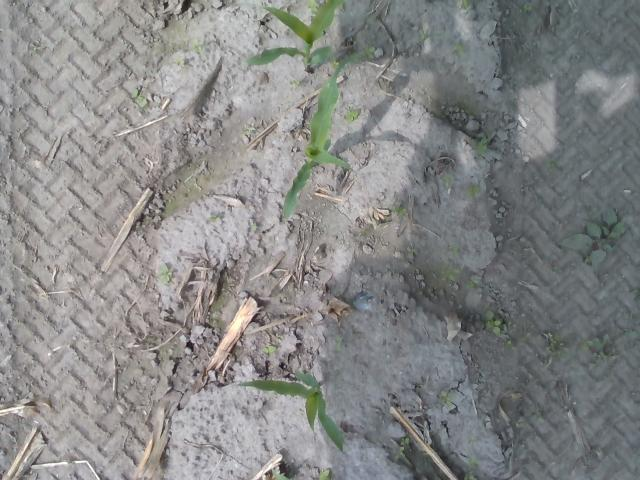Maize: (278, 50, 369, 220), (232, 367, 344, 453), (240, 0, 346, 75)
Weeds: (560, 206, 626, 270), (580, 339, 614, 367), (484, 312, 512, 344), (538, 331, 568, 356), (392, 435, 412, 462), (460, 455, 479, 480), (473, 134, 489, 154), (129, 88, 146, 106), (159, 264, 172, 282), (442, 269, 460, 282), (438, 391, 452, 407), (544, 158, 559, 172), (392, 204, 406, 218), (344, 109, 358, 123), (273, 467, 288, 480), (262, 344, 278, 356), (208, 212, 223, 224), (464, 278, 481, 288), (306, 0, 318, 14), (318, 468, 332, 480), (419, 28, 431, 40), (458, 0, 472, 10), (448, 244, 459, 256), (468, 185, 480, 196), (329, 56, 341, 67), (190, 42, 202, 52), (288, 78, 300, 88)
